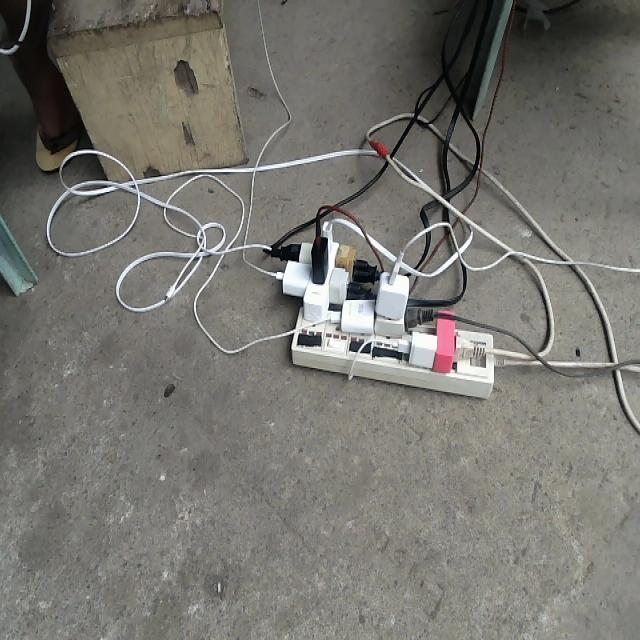-: (269, 203, 494, 397)
